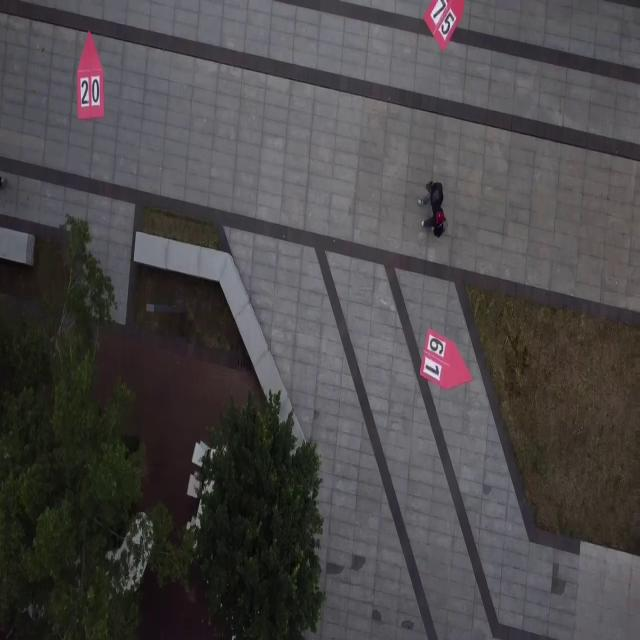-sign-: (420, 328, 472, 390), (76, 29, 104, 120), (424, 0, 464, 51)
